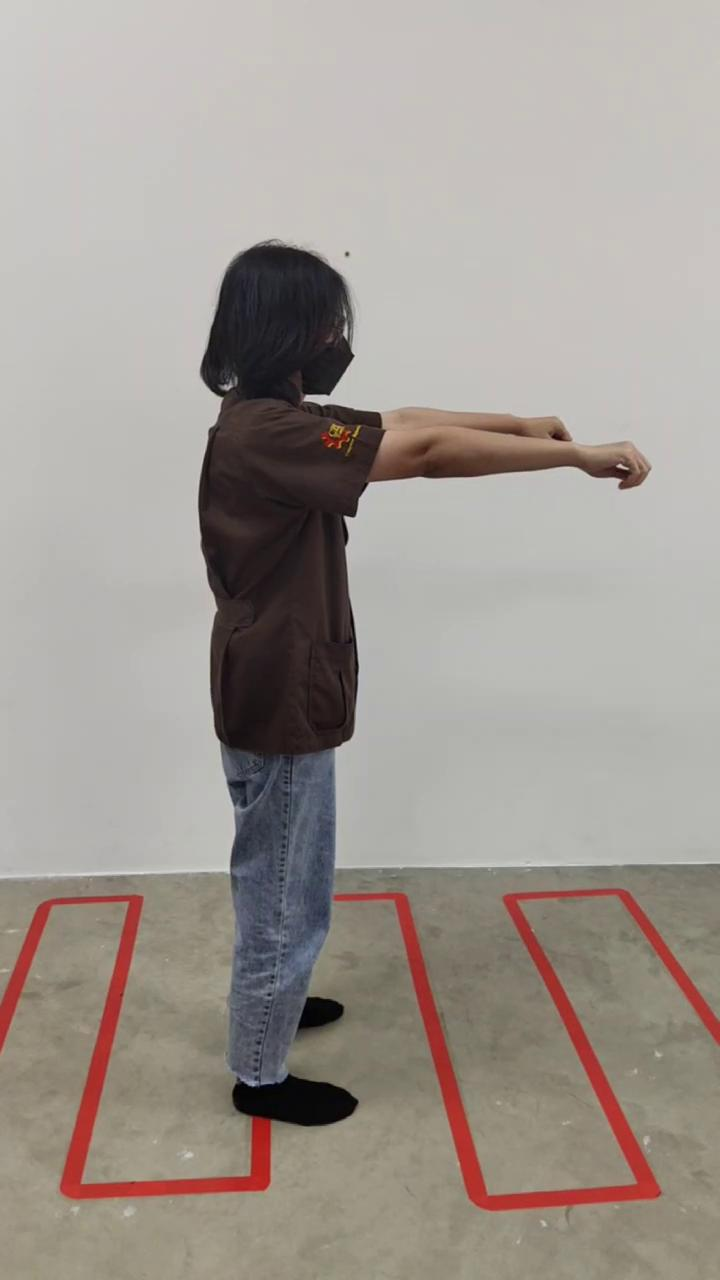squat up: (200, 242, 650, 1128)
